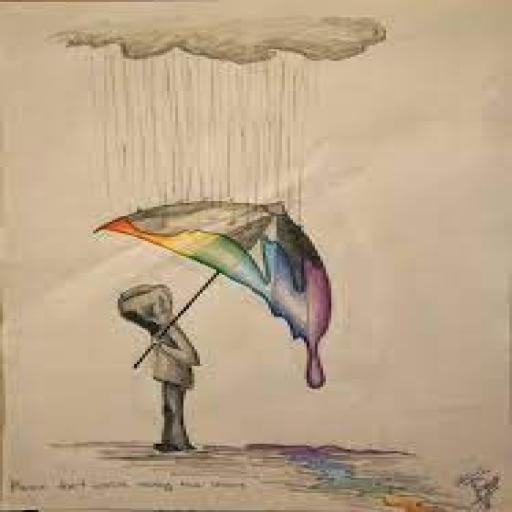person: (110, 277, 206, 471)
